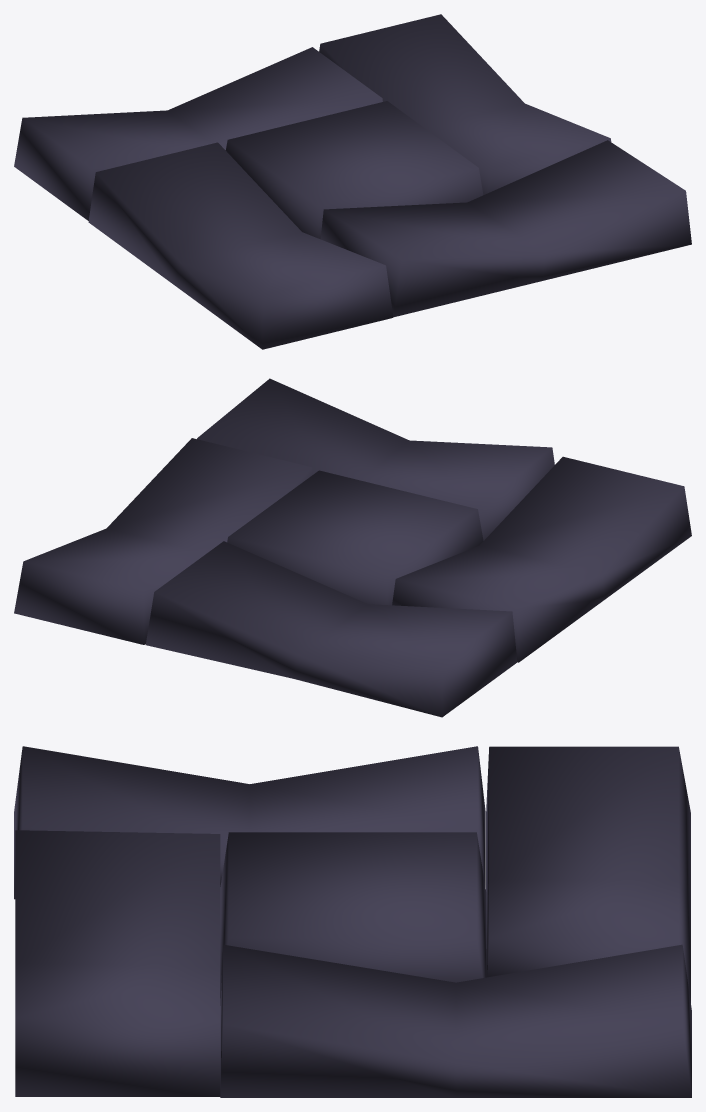
Rendered from suelo_baldoza.glb.
The picture shows the model from 3 angles, top to bottom: view 1: azimuth 30°, elevation 25°; view 2: azimuth 150°, elevation 25°; view 3: azimuth 270°, elevation 25°; orthographic projection. The views are drawn at different scales.
Visible parts, largest first — view 1: Plane.002; view 2: Plane.002; view 3: Plane.002.
Part boxes in pixels (x1,y1,x2,y2): Plane.002: (14,14,691,349); Plane.002: (14,378,691,717); Plane.002: (14,746,691,1097).
Bounding box in the file's own units: 0.9957 × 0.1217 × 1.
